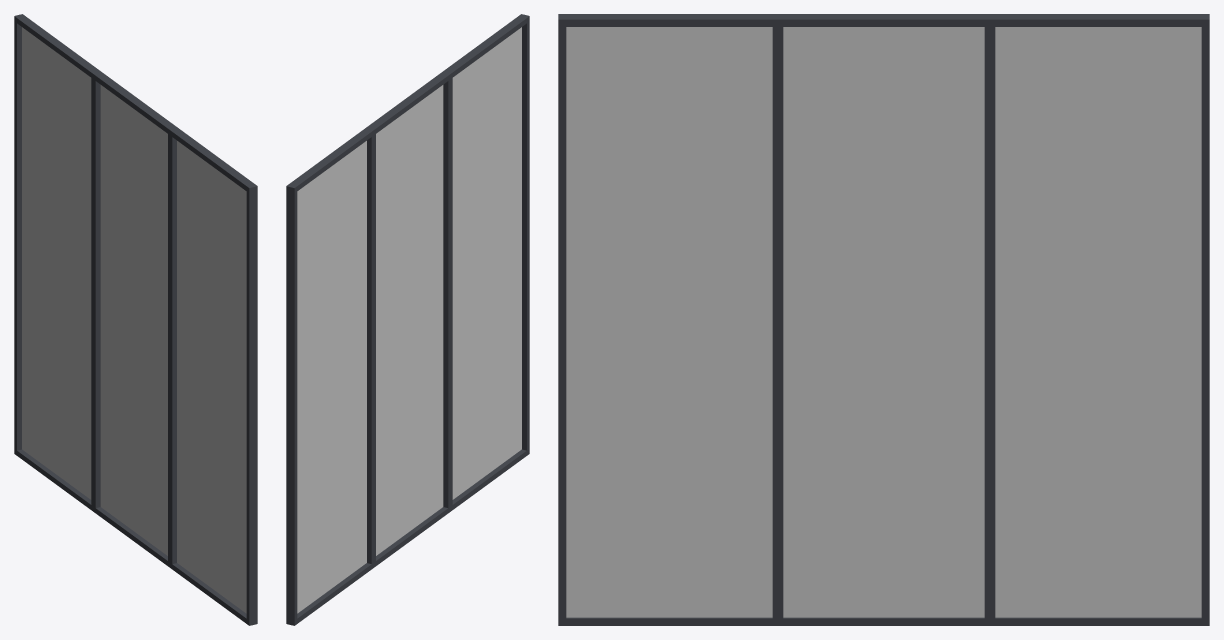
Rendered from Nebbiolo_Sidewall_Polycarbonate_Right.glb.
3 views of the same model, side by side, from view 1: azimuth 30°, elevation 25°; view 2: azimuth 150°, elevation 25°; view 3: azimuth 270°, elevation 25° (orthographic). The views are drawn at different scales.
Parts seen in each view (by area): view 1: sidewall_polycarbonate_right_400_250; view 2: sidewall_polycarbonate_right_400_250; view 3: sidewall_polycarbonate_right_400_250.
Boxes of the visible parts, x1,y1,x2,y2 form: sidewall_polycarbonate_right_400_250: (14,14,257,625); sidewall_polycarbonate_right_400_250: (286,14,529,625); sidewall_polycarbonate_right_400_250: (558,14,1209,625).
Bounding box in the file's own units: 0.0501 × 2.5 × 2.44.
Materials: 2 (1 with a texture image).
